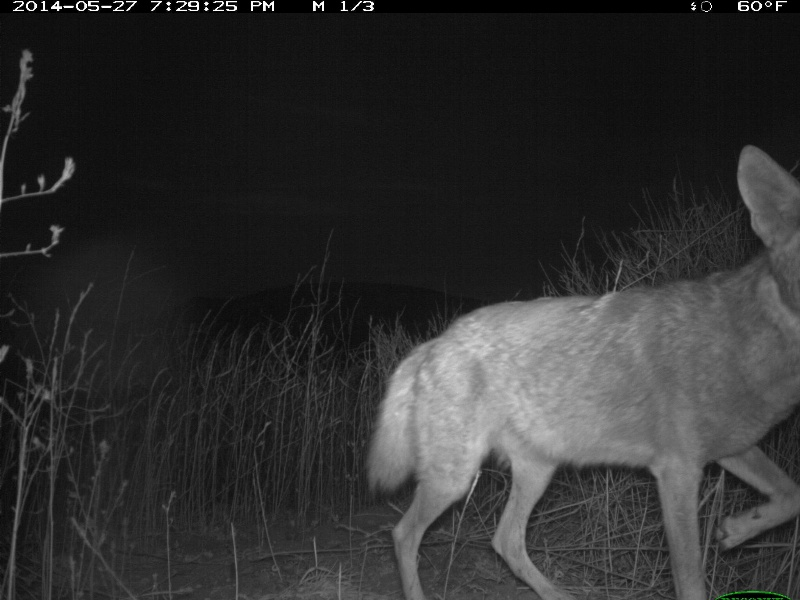coyote: (365, 131, 800, 600)
